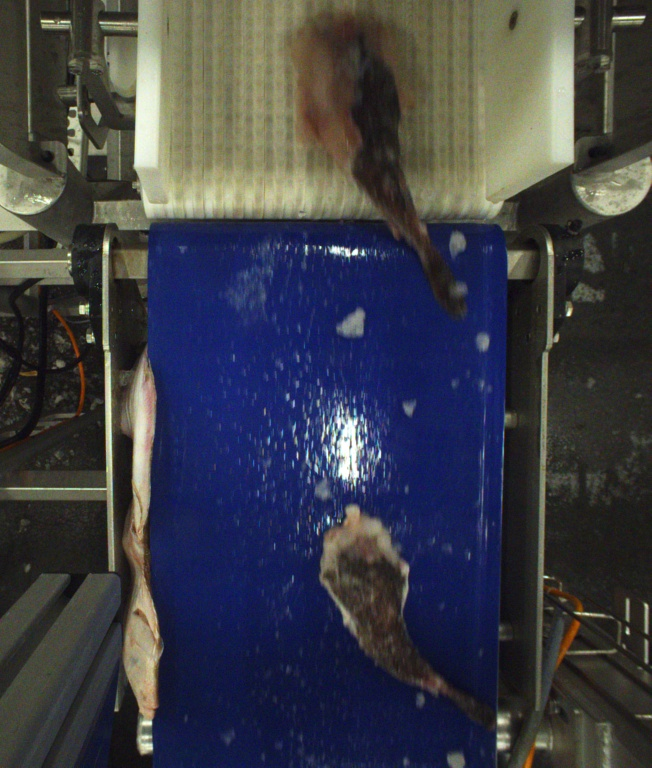ANF: (288, 12, 462, 326)
